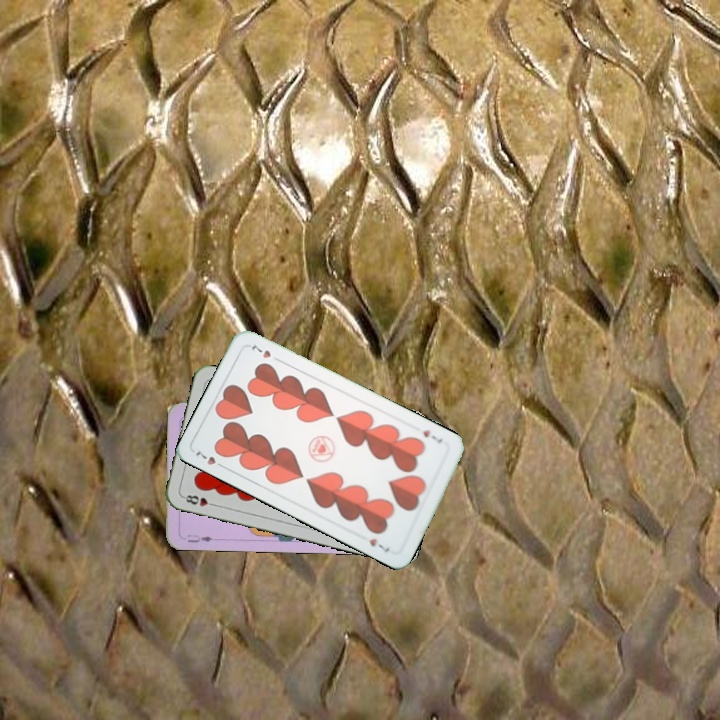EU: (183, 530, 215, 545)
H7: (191, 447, 228, 471), (419, 426, 445, 446)
H8: (179, 491, 219, 509)
